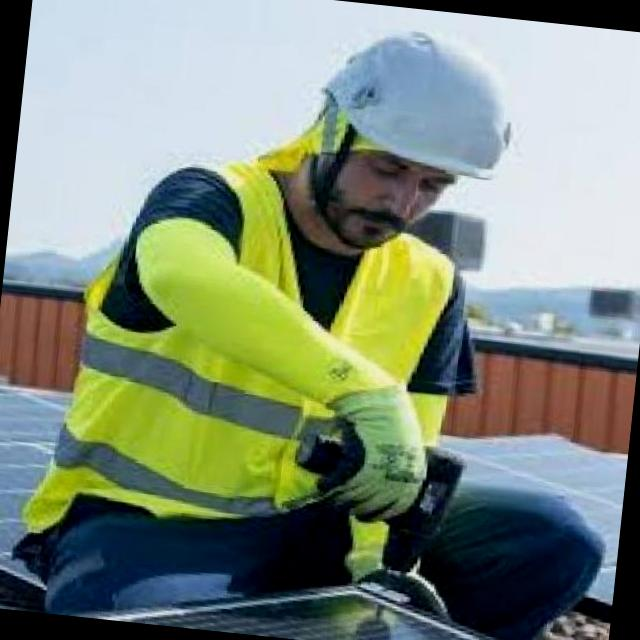helmet: (298, 17, 526, 186)
vest: (15, 142, 480, 618)
